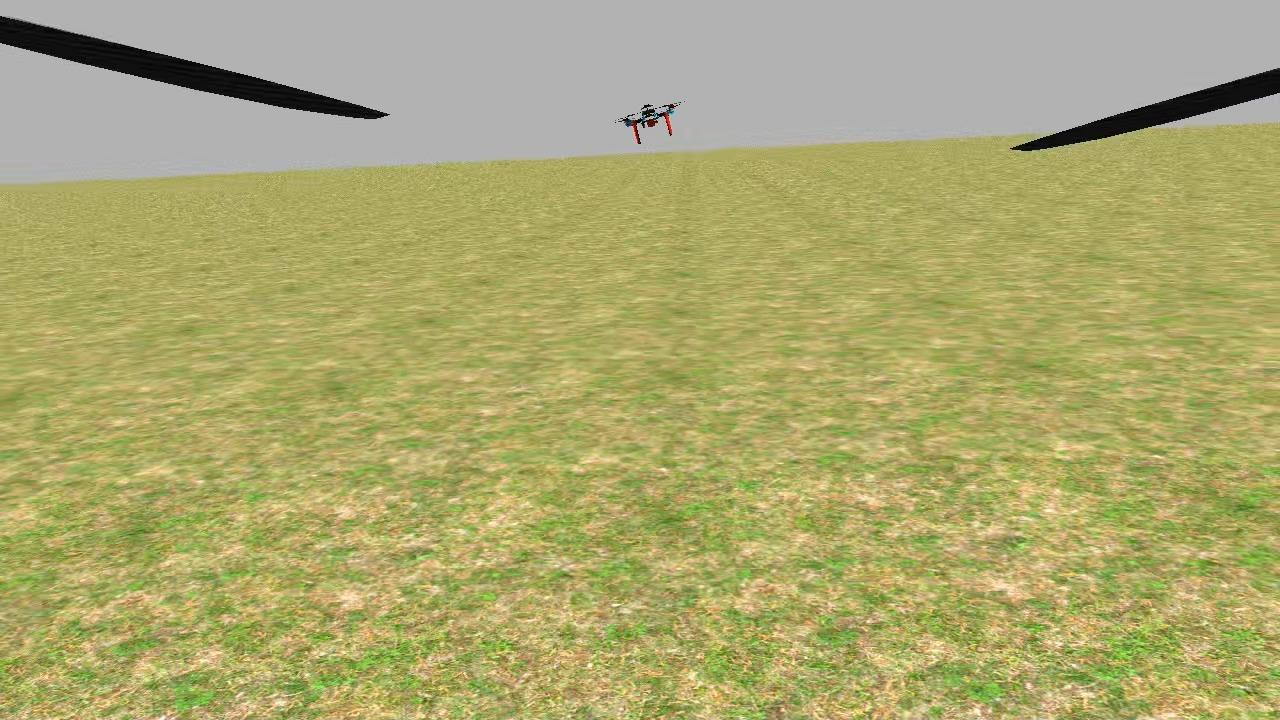UAV: (605, 98, 690, 151)
